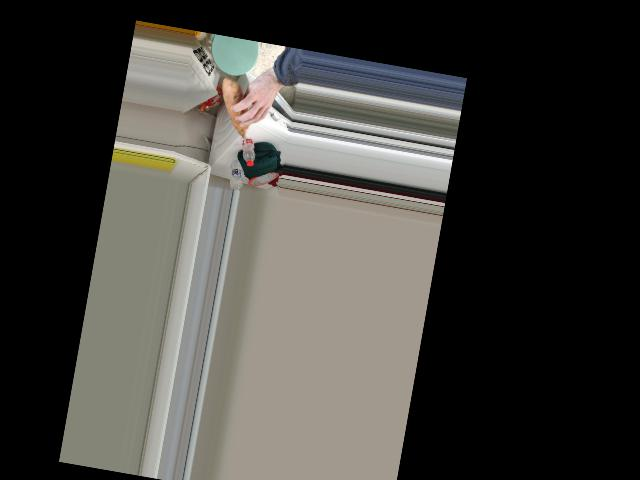sweet_potato: (216, 86, 263, 136)
